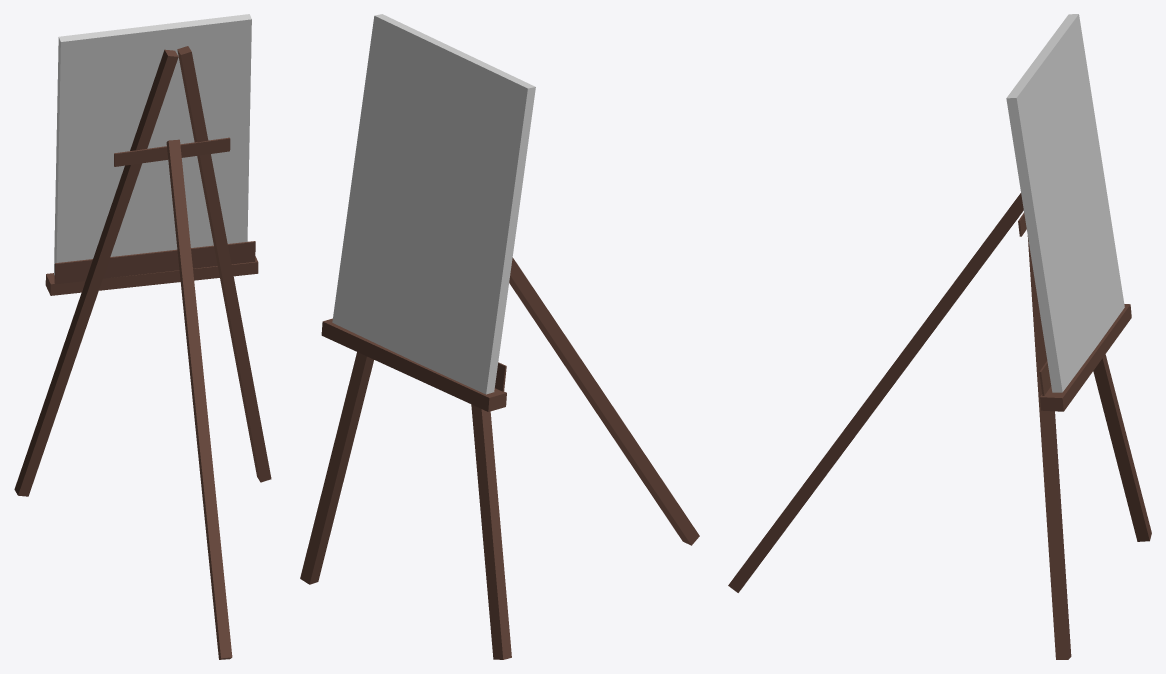
3 renders of one model, left to right at view 1: azimuth 30°, elevation 25°; view 2: azimuth 150°, elevation 25°; view 3: azimuth 270°, elevation 25°, orthographic. The views are drawn at different scales.
Visible parts, largest first — view 1: node_MeshObject1969818624-PolyPaper20; view 2: node_MeshObject1969818624-PolyPaper20; view 3: node_MeshObject1969818624-PolyPaper20.
Part boxes in pixels (left/top/right/bottom): node_MeshObject1969818624-PolyPaper20: left=14, top=14, right=271, bottom=659; node_MeshObject1969818624-PolyPaper20: left=300, top=14, right=699, bottom=659; node_MeshObject1969818624-PolyPaper20: left=728, top=14, right=1151, bottom=659.
Size of the model in its own units: 2.82 by 6.4 by 4.29.
